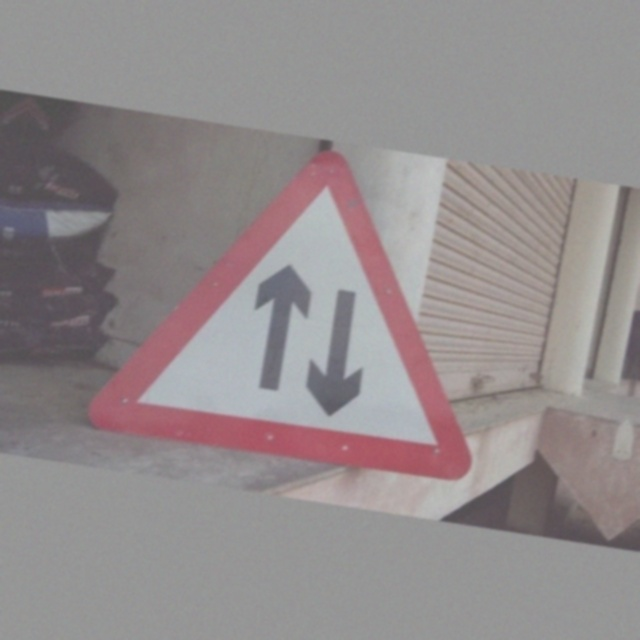Mandatory_Two_Way_Traffic: (118, 121, 510, 497)
